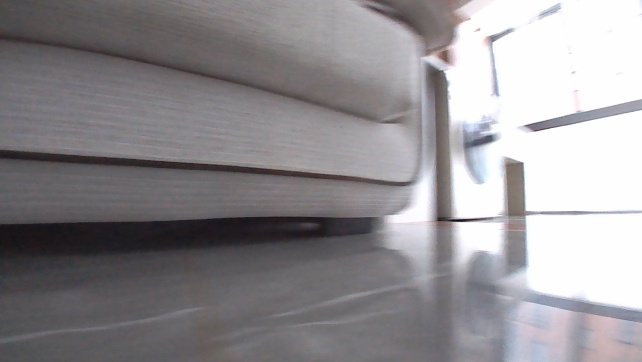sofa1: (0, 0, 464, 238)
